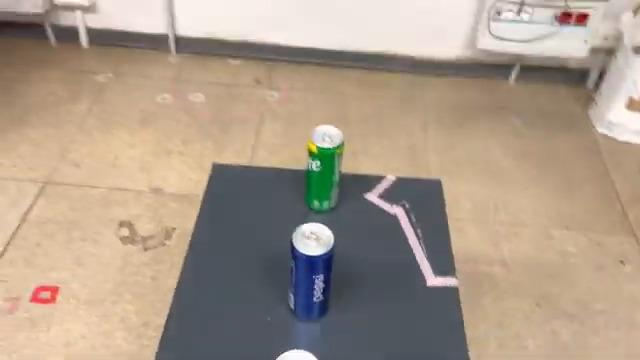Pepsi: (280, 219, 340, 327)
Sprite: (304, 120, 348, 216)
